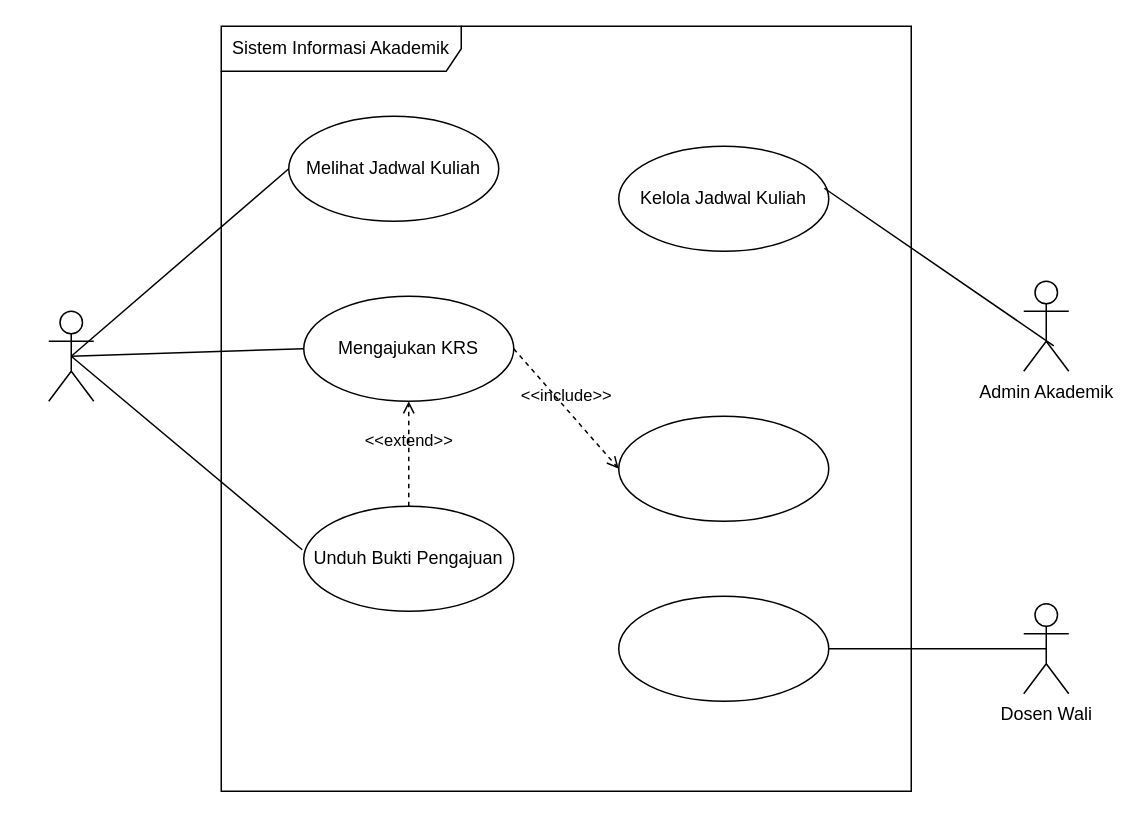
The diagram is 1139 pixels wide and 818 high, and some of its shapes have lost their labels. Here are the shapes that lost their labels. From the top down, the box of each, then its label:
(47, 310, 94, 401): Mahasiswa
(617, 415, 829, 521): Memvalidasi KRS
(617, 595, 829, 701): Memproses Keputusan KRS
